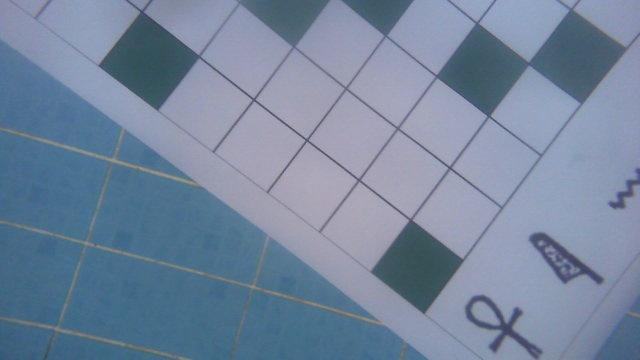Ankh: (463, 292, 547, 358)
Reed: (522, 231, 609, 288)
